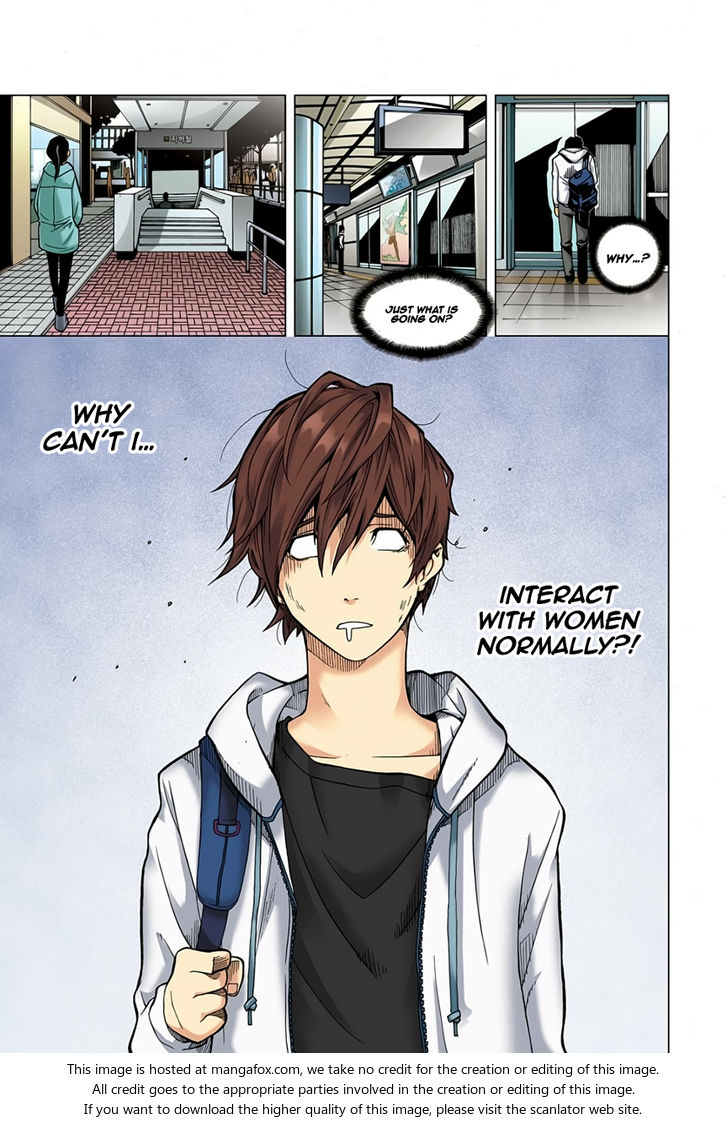bubble: (361, 274, 484, 350), (595, 220, 659, 288)
